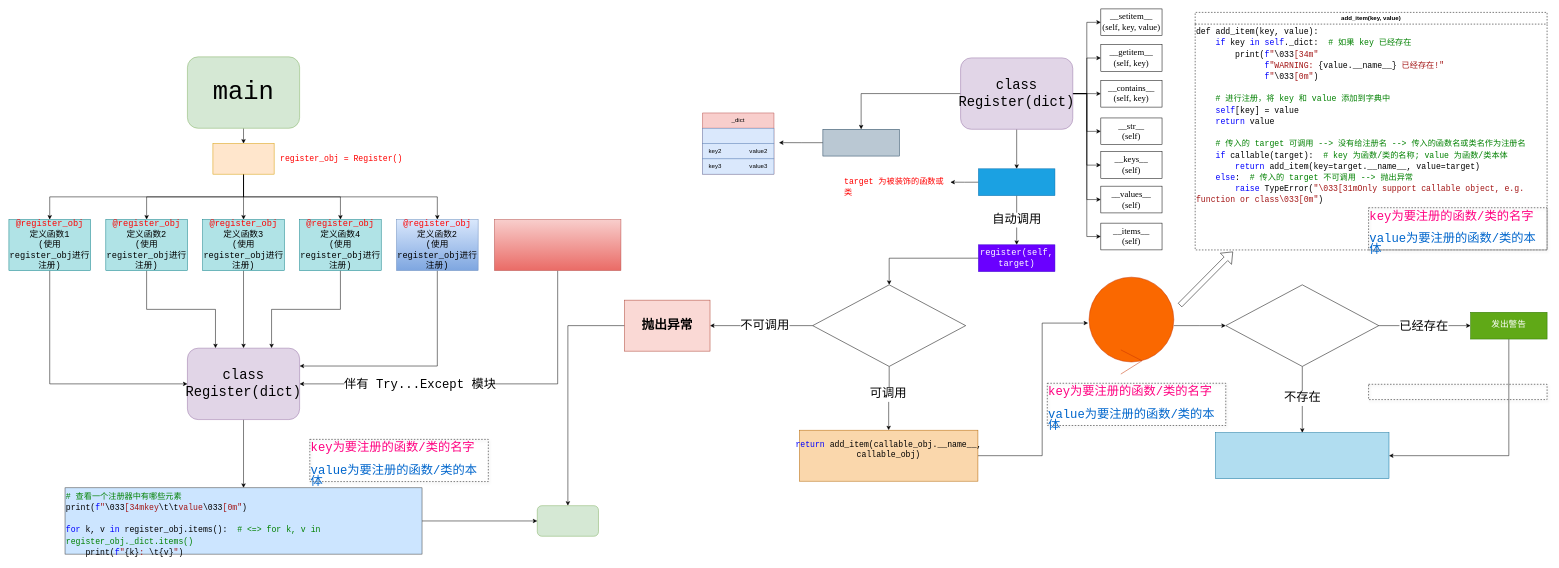
Some shapes in this 1559 by 568 pixel diagram are drawn without their labels. Each missing label, with the centre of its shape:
# 进行注册，将 key 和 value 添加到字典中 self [key] = value return value: the point at 1302,455
__call__(self, target): the point at 1016,182
__init__(self): the point at 860,142
add_item (key, value): the point at 1131,325
if key in self ._dict: # key 是否已经存在: the point at 1302,325
key1 value1: the point at 738,136
register_obj(obj) 尝试注册不可调用对象 (使用register_obj进行注册): the point at 557,245
target是否可调用（callable）: the point at 889,325
创建注册器实例: the point at 243,158
可以添加规则，如果发出警告，不进行注册: the point at 1458,392
程序结束: the point at 567,520
